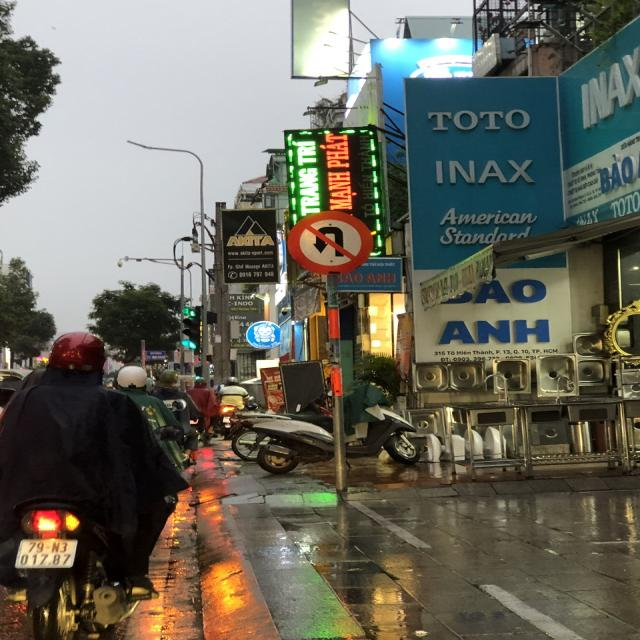Bien bao cam quay dau xe: (281, 208, 374, 278)
